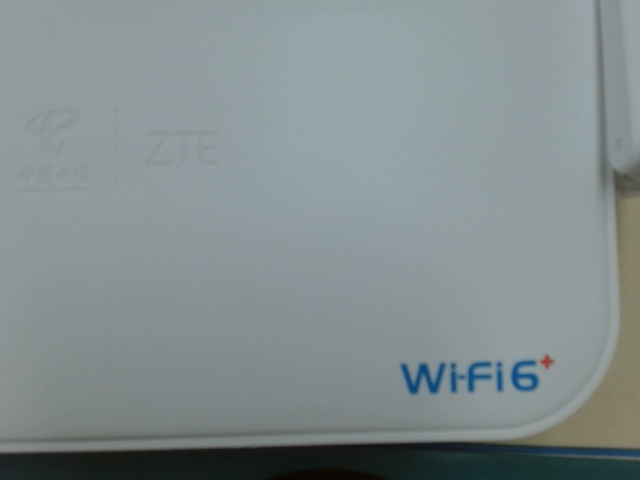AJ_ZTEWIFI6Plus: (386, 347, 559, 404)
